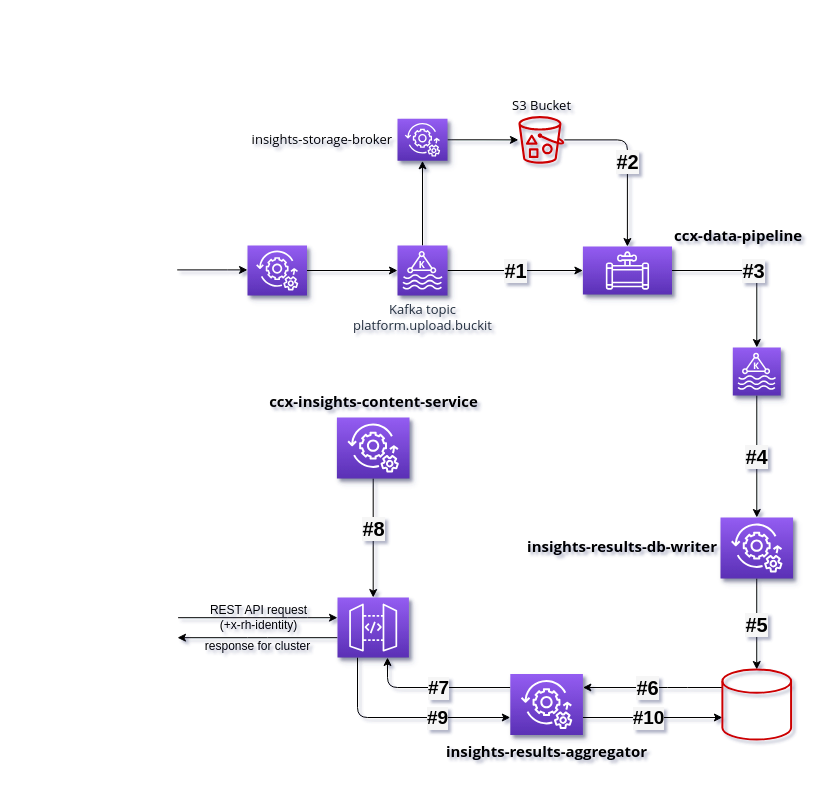
This 825x801 diagram has some shape labels left out. Grey dashed boxes stand in for pictures. Each missing label, with the centre of its shape:
AWS RDS DB: pixel 756 704
ccx-smart-proxy: pixel 373 628
Ingress service: pixel 277 271
Kafka topic ccx.ocp.results: pixel 757 372
